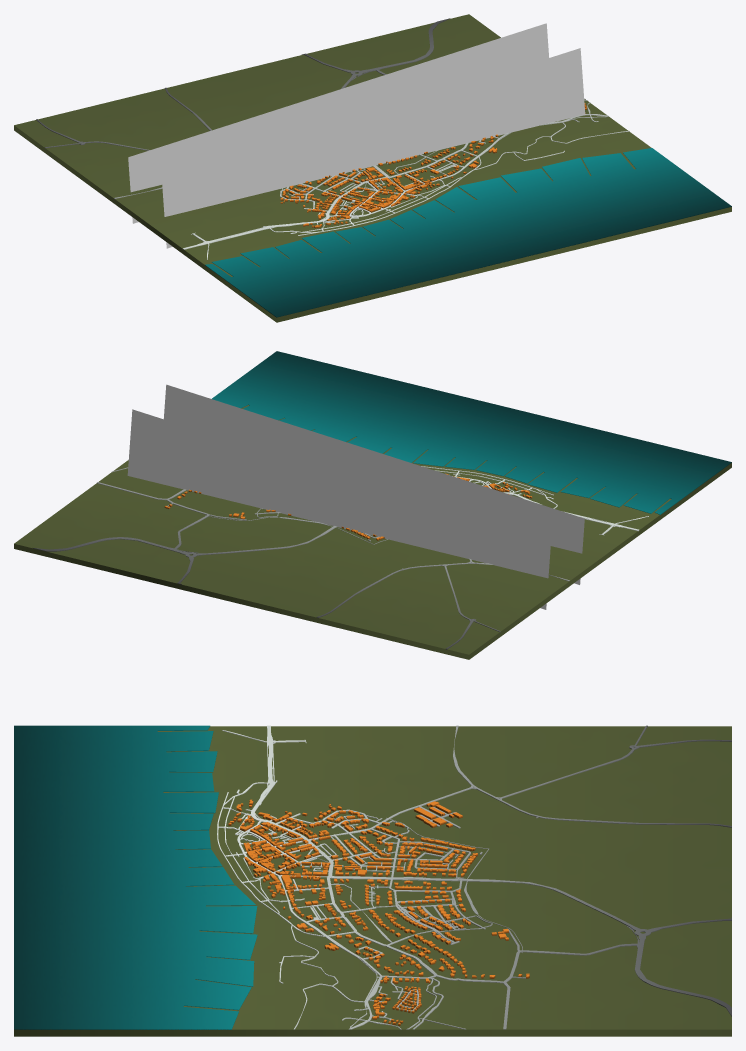
The model's file is zoutelande.fbx.
The picture shows the model from 3 angles, top to bottom: view 1: azimuth 30°, elevation 25°; view 2: azimuth 150°, elevation 25°; view 3: azimuth 270°, elevation 25°; orthographic projection. The views are drawn at different scales.
Visible parts, largest first — view 1: Grond, Zee, mist 2, mist, road, Gebouwen; view 2: Grond, Zee, mist, mist 2, road, Gebouwen; view 3: Grond, Zee, road, Gebouwen.
Part boxes in pixels (x1,y1,x2,y2): Grond: (14, 14, 731, 322); Zee: (205, 148, 731, 317); mist 2: (162, 48, 585, 248); mist: (128, 23, 549, 223); road: (36, 18, 629, 259); Gebouwen: (280, 103, 586, 228); Grond: (14, 405, 731, 659); Zee: (212, 351, 731, 514); mist: (127, 409, 550, 609); mist 2: (163, 384, 584, 584); road: (33, 466, 648, 649); Gebouwen: (164, 473, 532, 540); Grond: (14, 726, 731, 1036); Zee: (14, 725, 257, 1029); road: (217, 725, 731, 1029); Gebouwen: (228, 799, 529, 1025).
Bounding box in the file's own units: 10698 × 2241 × 10699.
Materials: 2 (1 with a texture image).
